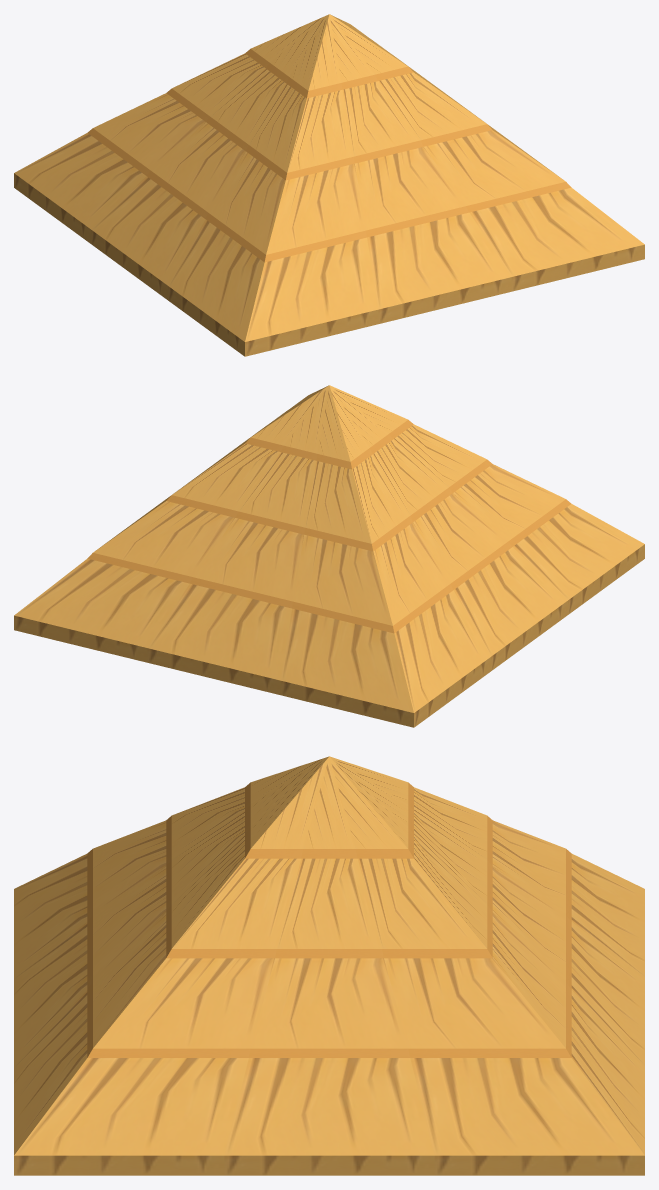
Rendered from rc_wa_roof_thatchhip_4x4.glb.
3 views of the same model, one above another, from view 1: azimuth 30°, elevation 25°; view 2: azimuth 150°, elevation 25°; view 3: azimuth 270°, elevation 25° (orthographic). The views are drawn at different scales.
Visible parts, largest first — view 1: SM_RC_WA_ThatchHip_4x4; view 2: SM_RC_WA_ThatchHip_4x4; view 3: SM_RC_WA_ThatchHip_4x4.
Part boxes in pixels (x1,y1,x2,y2): SM_RC_WA_ThatchHip_4x4: (14,14,644,356); SM_RC_WA_ThatchHip_4x4: (14,385,644,727); SM_RC_WA_ThatchHip_4x4: (14,756,644,1175).
Bounding box in the file's own units: 4 × 2 × 4.
1 material, 1 textured.
